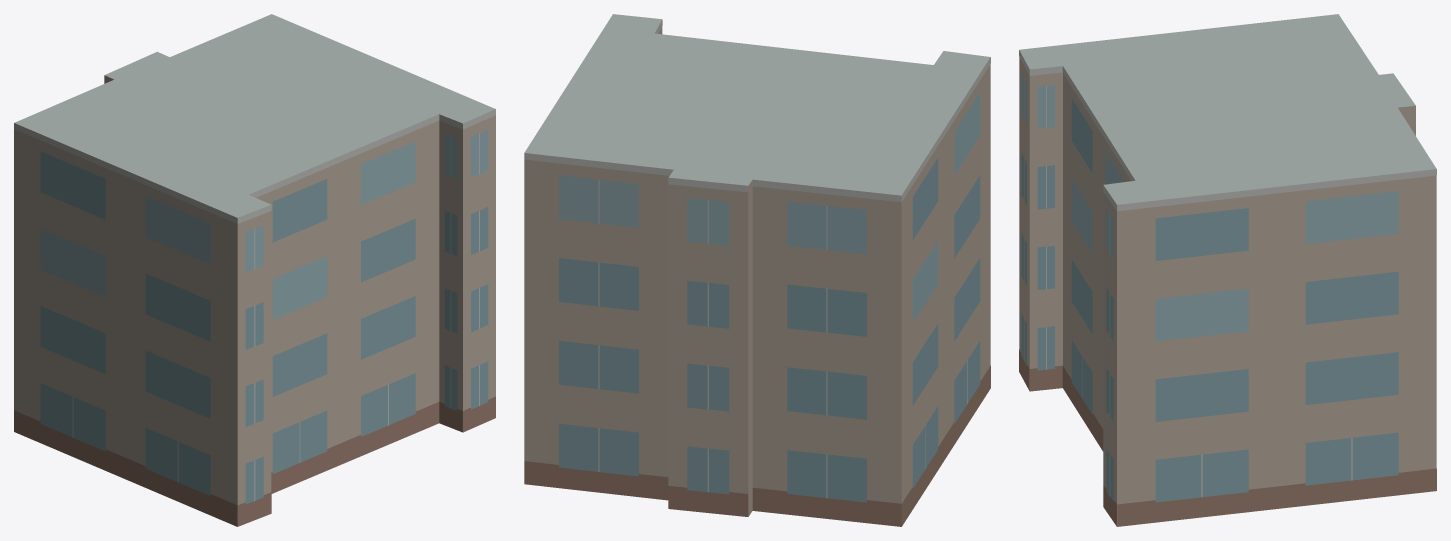
Rendered from survey-upis-32704234.glb.
3 renders of one model, left to right at view 1: azimuth 30°, elevation 25°; view 2: azimuth 150°, elevation 25°; view 3: azimuth 270°, elevation 25°, orthographic. The views are drawn at different scales.
Parts seen in each view (by area): view 1: survey-upis-32704234.tmp; view 2: survey-upis-32704234.tmp; view 3: survey-upis-32704234.tmp.
Part boxes in pixels (<box>): survey-upis-32704234.tmp: <box>14,14,495,526</box>; survey-upis-32704234.tmp: <box>524,14,990,526</box>; survey-upis-32704234.tmp: <box>1019,14,1436,526</box>.
Size of the model in its own units: 15.53 by 12.2 by 14.35.
